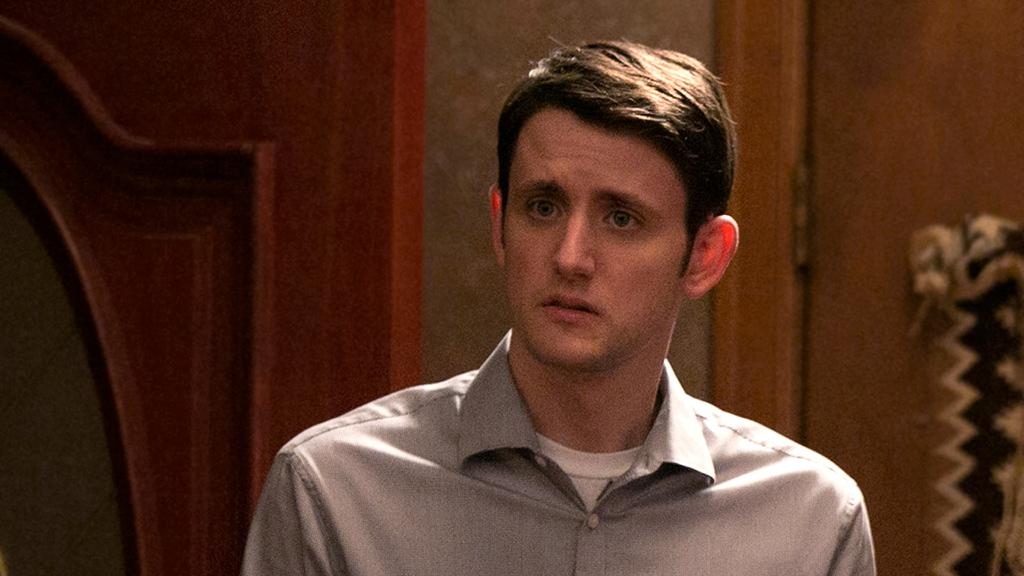face: (502, 122, 684, 366)
